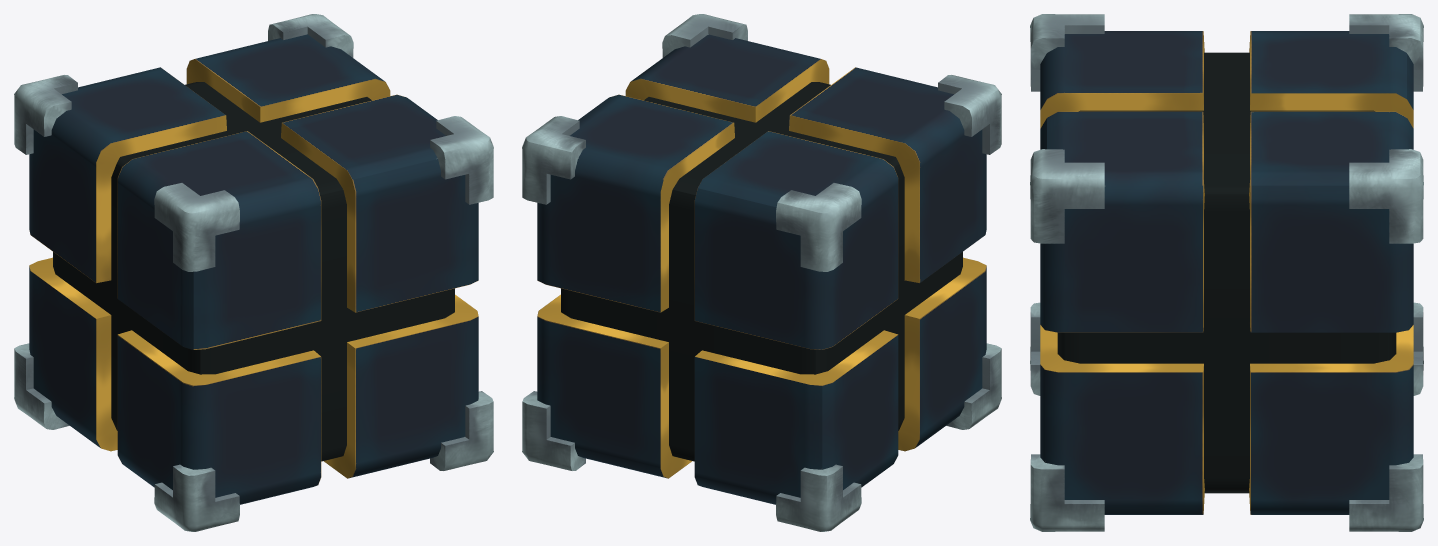
The model's file is PowerCubeAfterTexture_2.fbx.
3 views of the same model, side by side, from view 1: azimuth 30°, elevation 25°; view 2: azimuth 150°, elevation 25°; view 3: azimuth 270°, elevation 25° (orthographic). The views are drawn at different scales.
Visible parts, largest first — view 1: PowerCube2; view 2: PowerCube2; view 3: PowerCube2.
Boxes of the visible parts, box(x1,y1,x2,y2) form: PowerCube2: box(14, 14, 493, 531); PowerCube2: box(522, 14, 1001, 531); PowerCube2: box(1030, 14, 1423, 531).
Bounding box in the file's own units: 191 × 191 × 190.
1 material, 1 textured.
